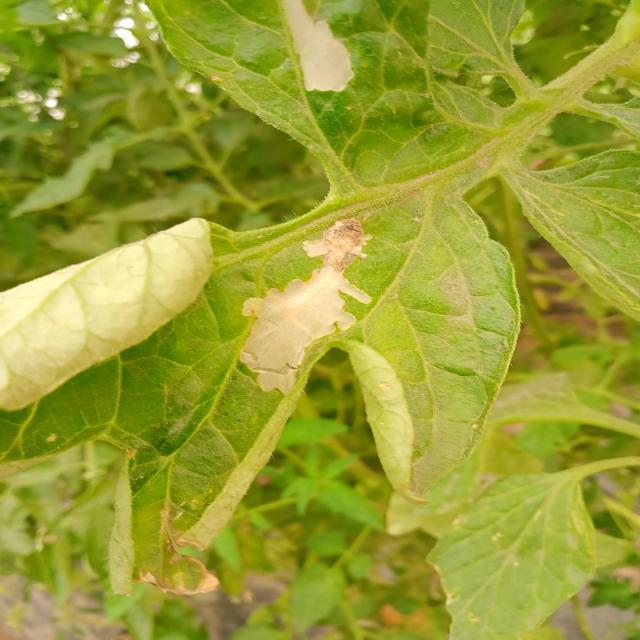Tuta absoluta: (209, 203, 408, 405)
